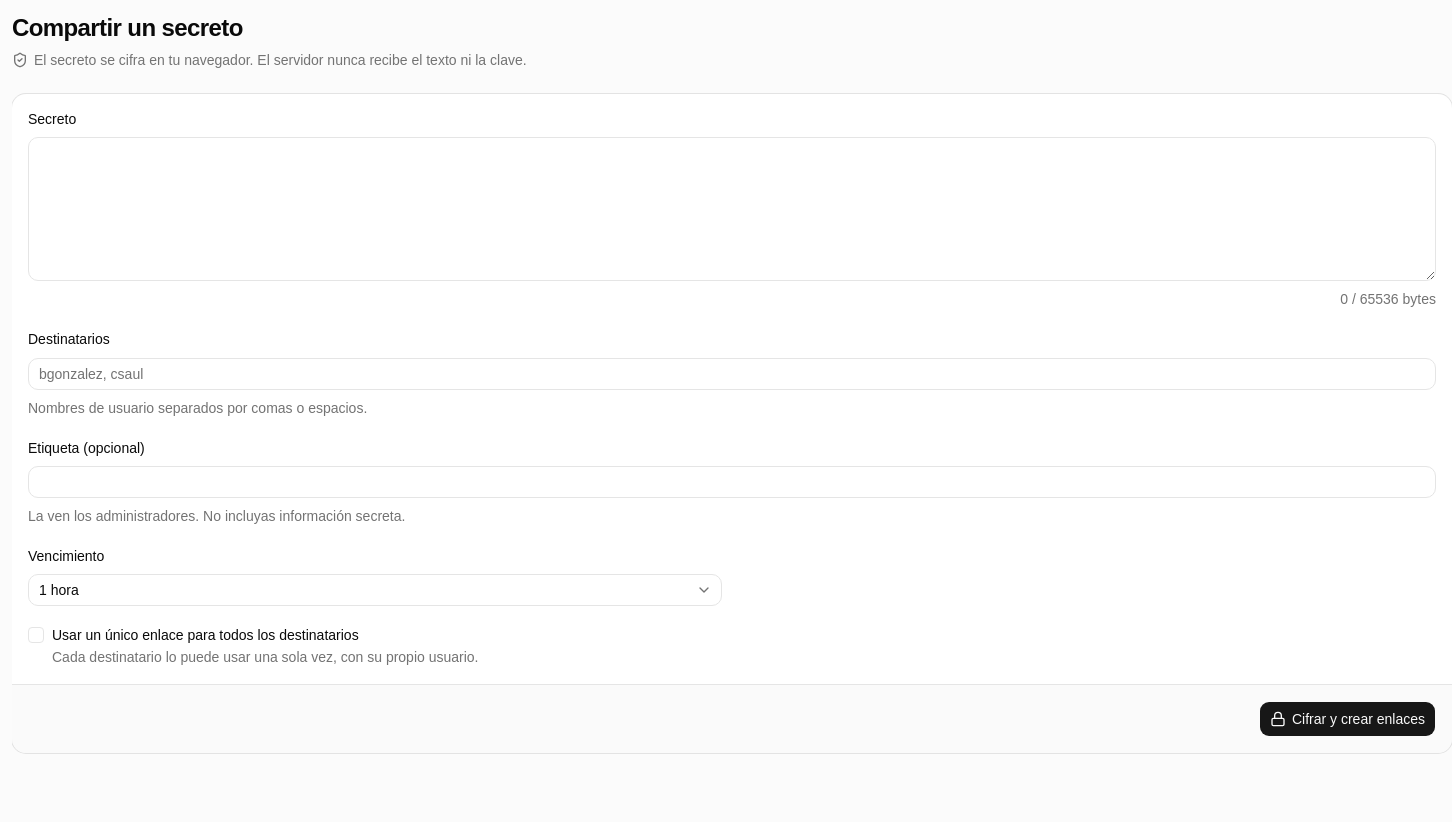
Test: CreatePage › handles a 401 by asking to log in again without losing the form
Type "hunter2" into the text box labelled "Secreto" at (732, 209), box [28,137,1436,281]
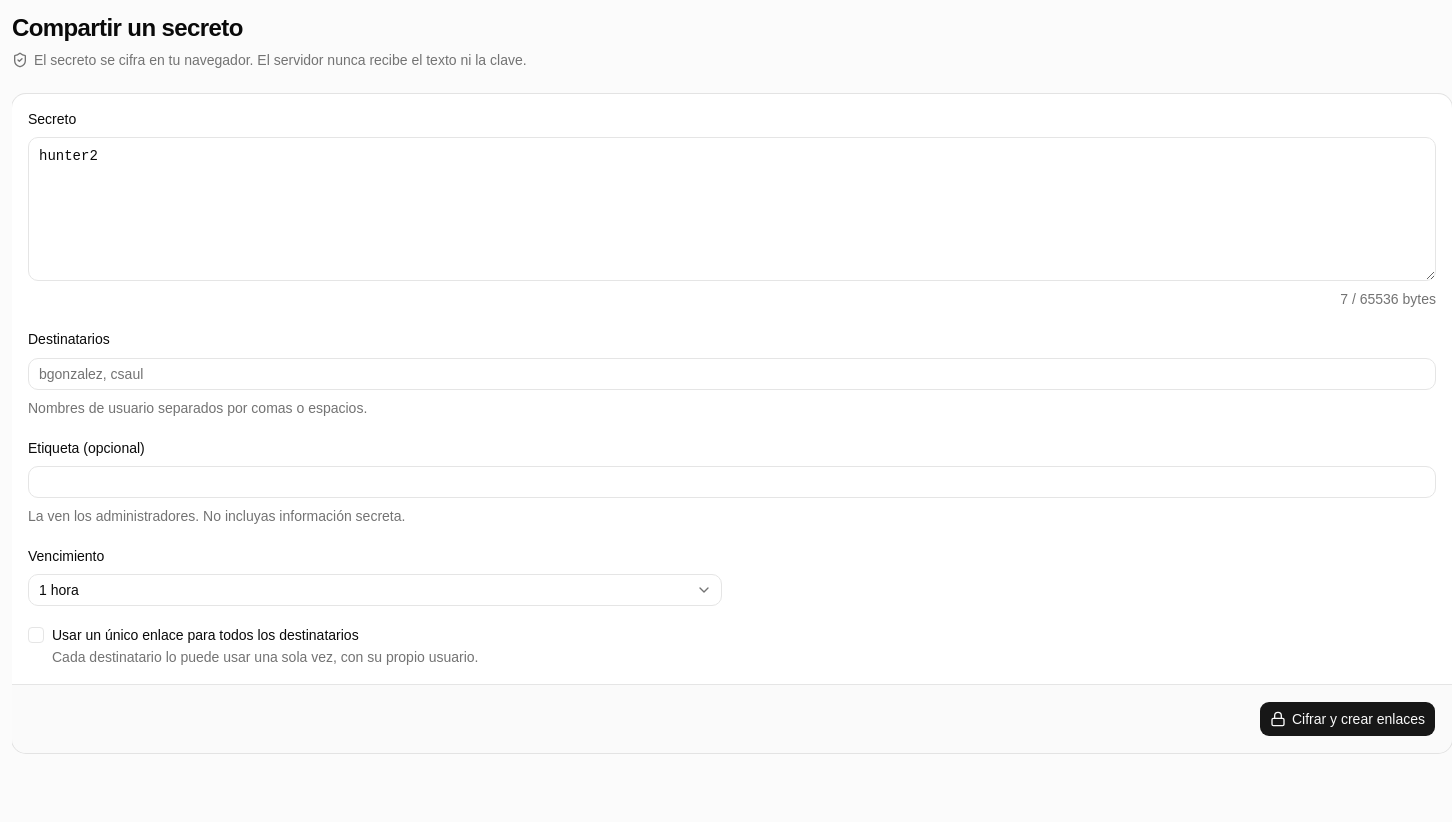
Type " BGonzalez, csaul " into the field labelled "Destinatarios" at (732, 374), box [28,358,1436,390]
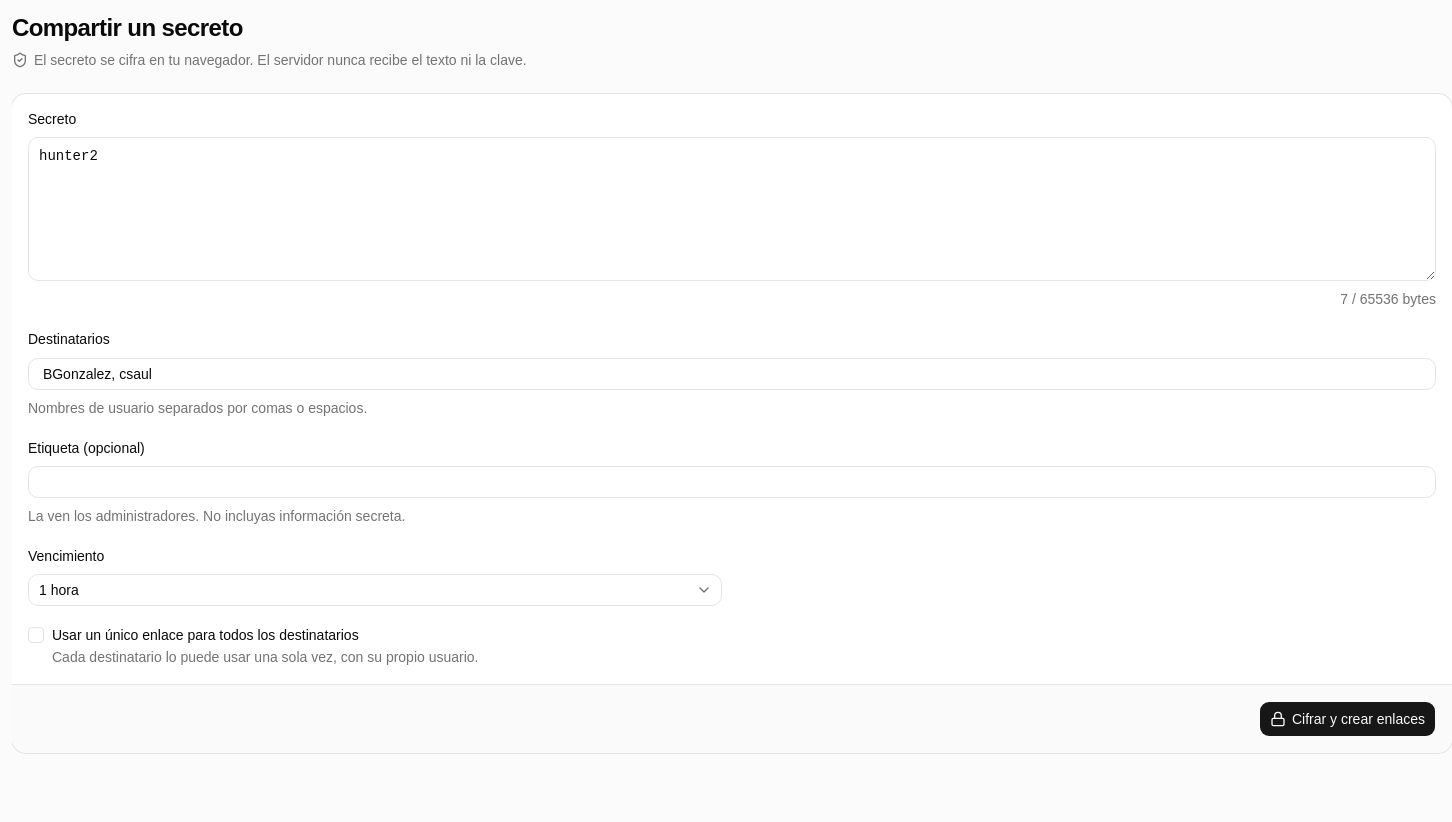
Click the button "Cifrar y crear enlaces" at (1348, 719), box [1259,701,1436,737]
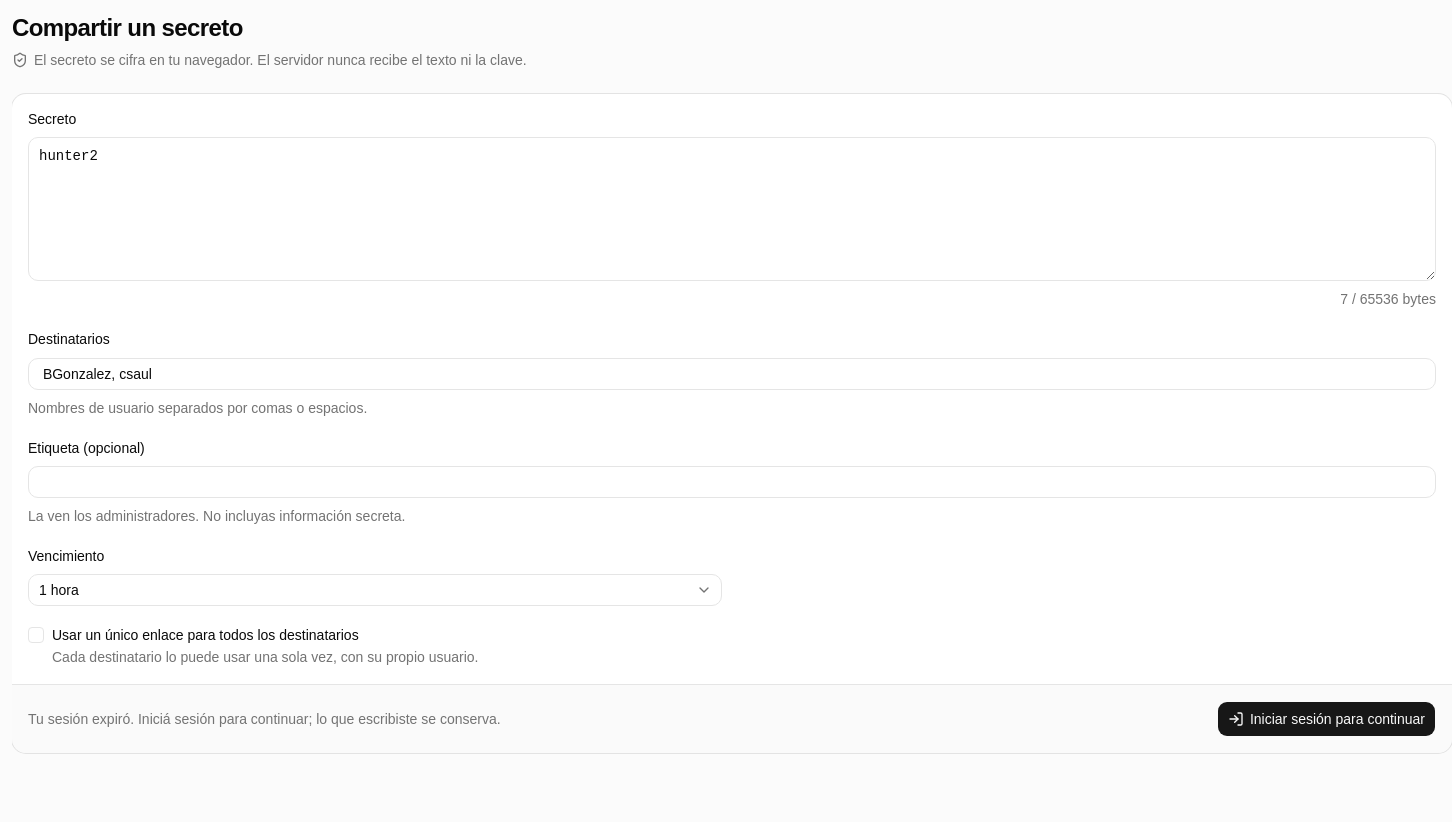
Expected: the button "Iniciar sesión para continuar" is enabled, [1217,701,1436,737]
Expected: the text "Tu sesión expiró" is shown, [28,711,501,727]
